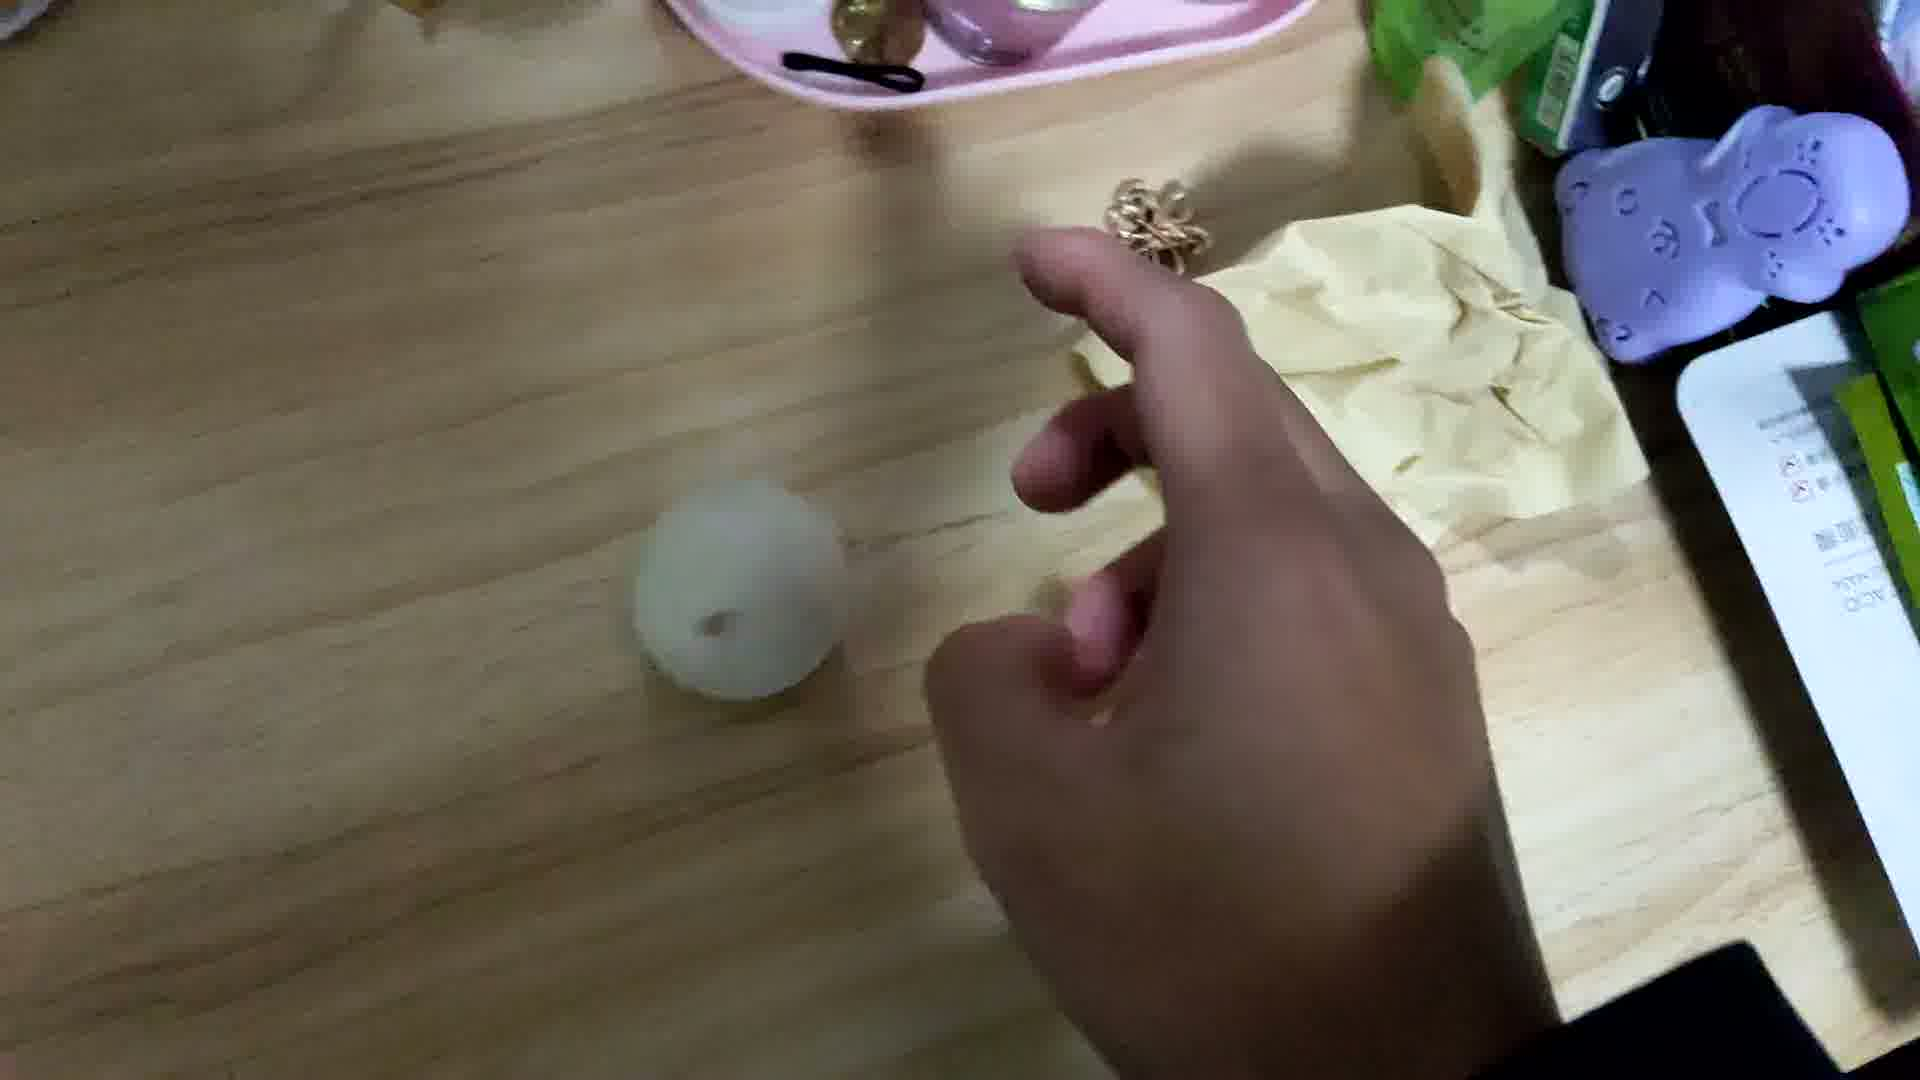Ball: (641, 471, 862, 708)
